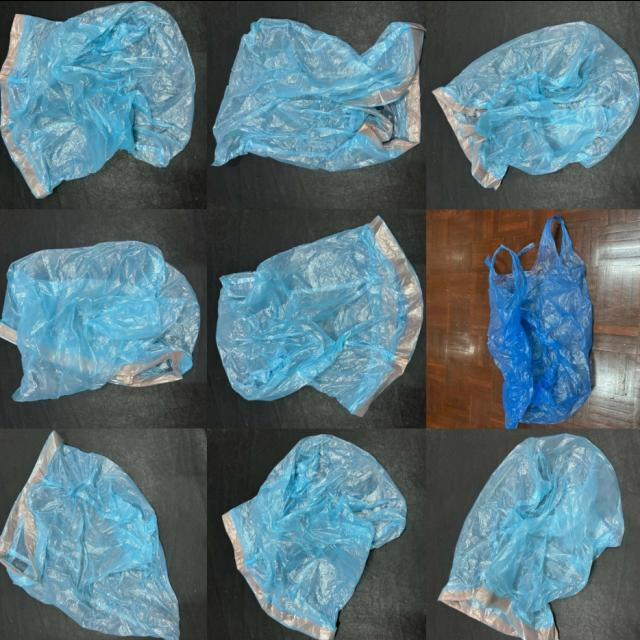plastik: (216, 216, 423, 416), (439, 432, 624, 640), (0, 1, 195, 197), (223, 434, 407, 640), (0, 431, 178, 640), (433, 21, 639, 187), (214, 17, 424, 170), (0, 241, 200, 400), (485, 215, 593, 427)
